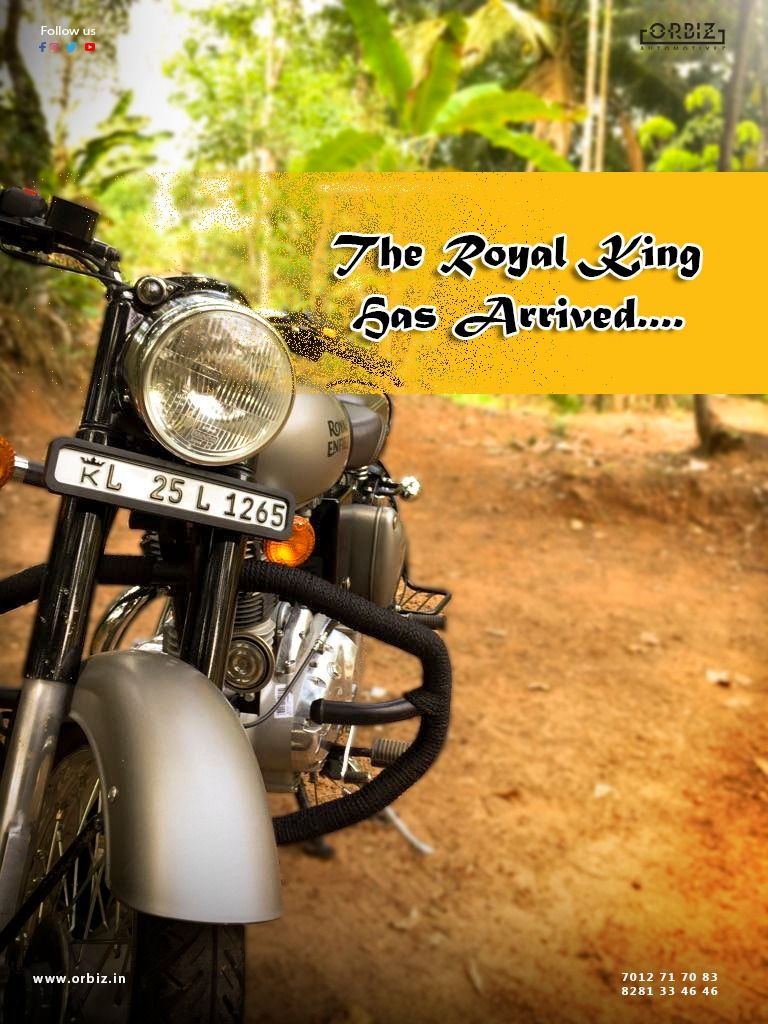plate: (45, 433, 294, 545)
